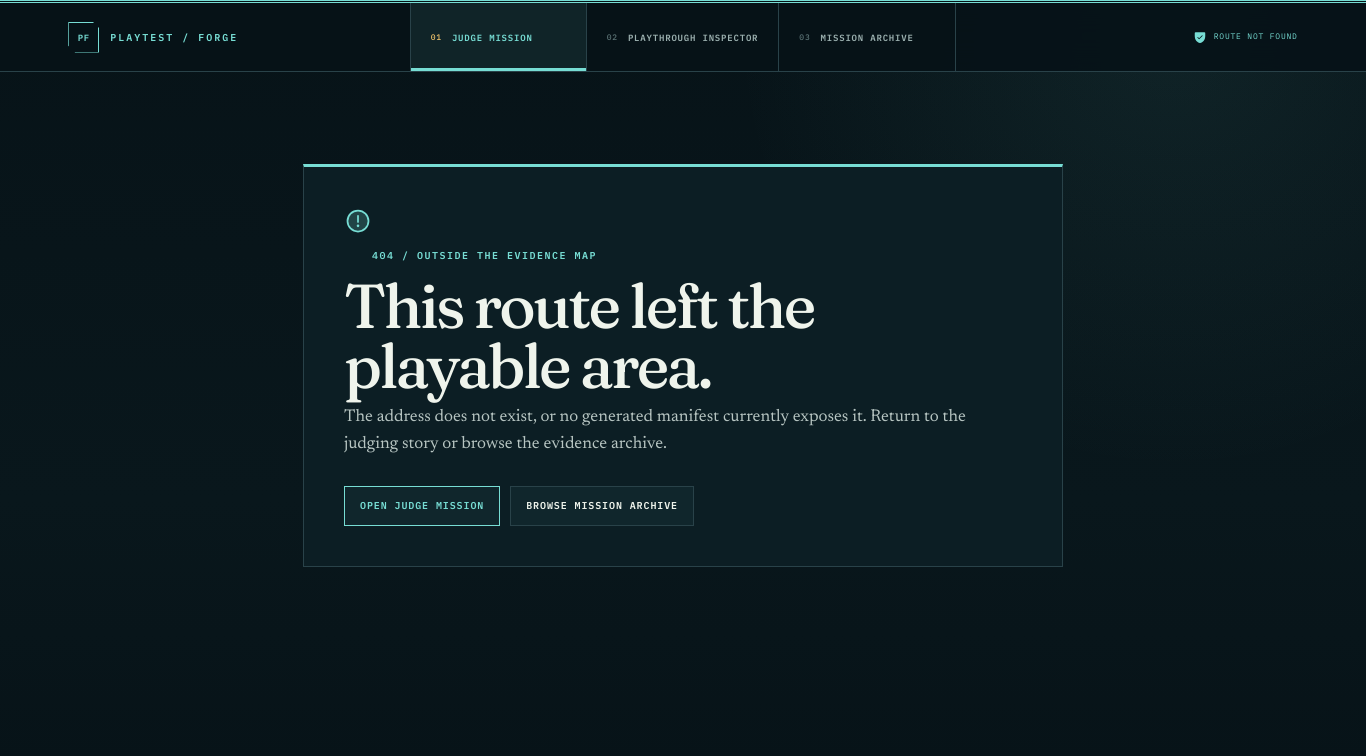
Scenario: application routes › renders the 404 page and returns to the report index
This screenshot has width=1366, height=756.
expect the heading "This route left the playable area." is shown: met, box 344,267 -> 814,404
Click the link "Open Judge Mission". click: (422, 506)
box: 344,486 -> 500,526
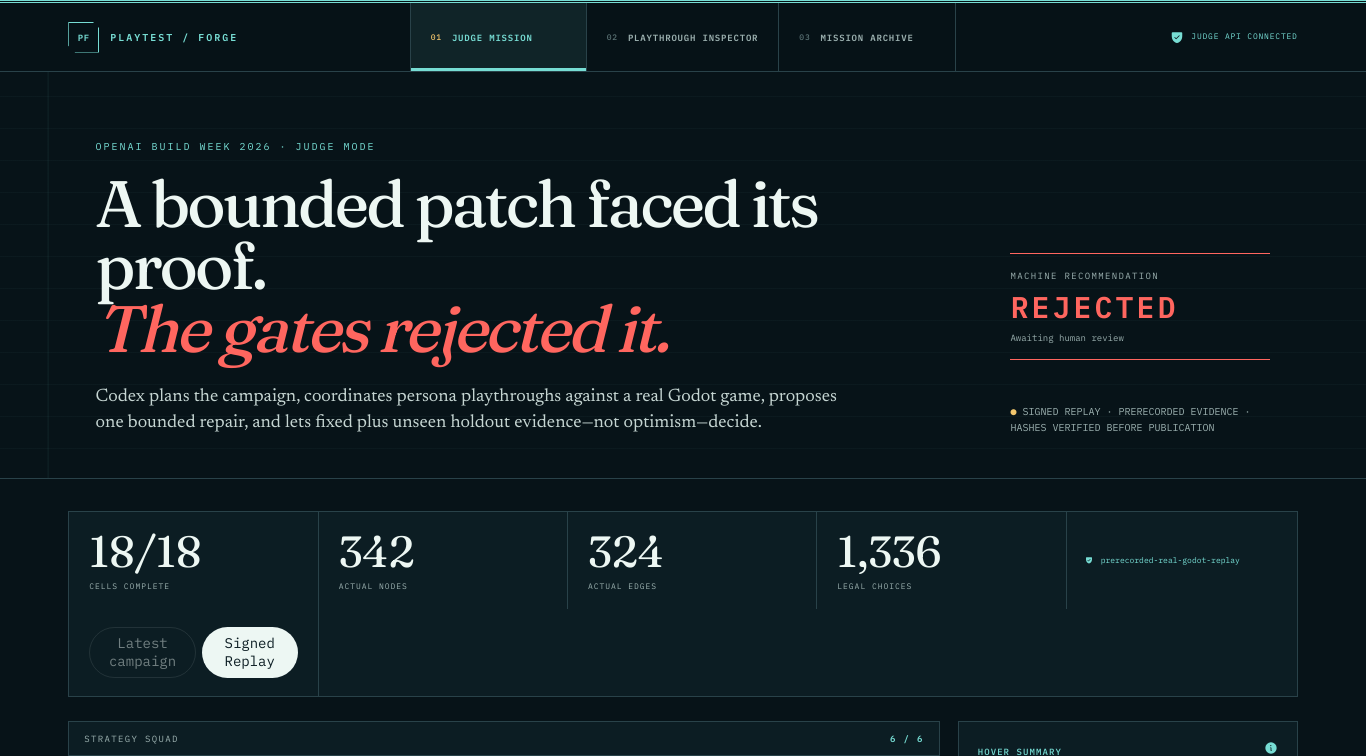
expect the heading "A bounded patch faced its proof.The gates rejected it." is shown: met, box 96,163 -> 817,369
